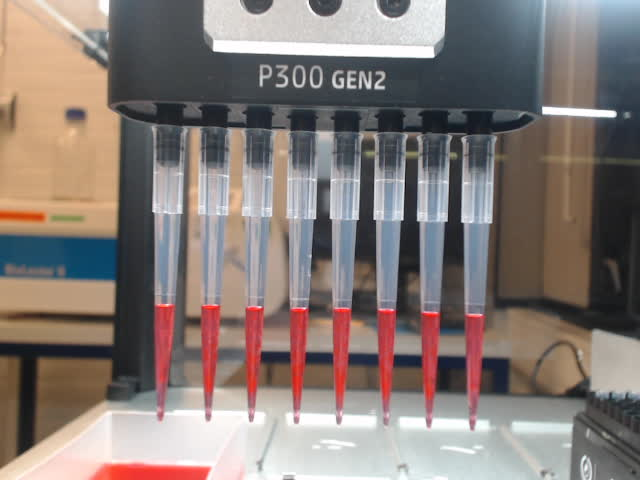Liquid: (416, 307, 445, 431), (150, 299, 177, 424), (461, 308, 487, 431), (330, 304, 355, 429), (374, 305, 400, 425), (198, 301, 223, 423), (242, 303, 266, 424), (287, 306, 311, 426)
Tip: (146, 122, 187, 425), (414, 132, 455, 431), (459, 133, 499, 431), (371, 129, 410, 427), (237, 125, 275, 424), (329, 130, 366, 428), (195, 123, 230, 424), (285, 130, 320, 426)
